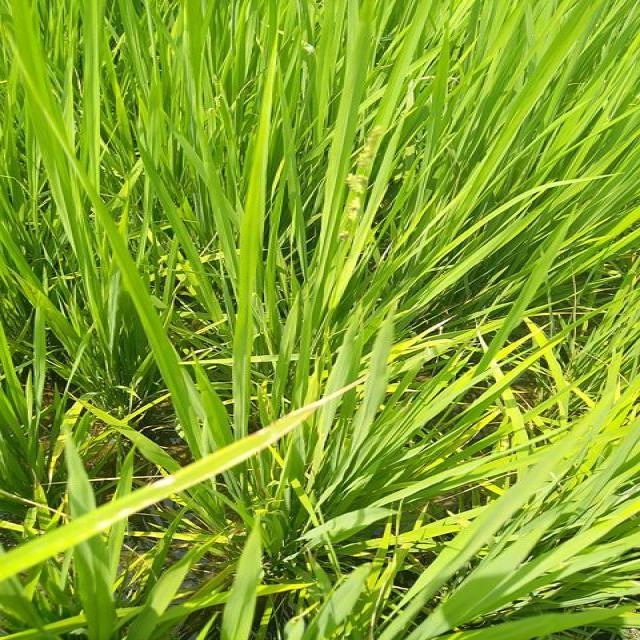Leaf Streak: (0, 380, 367, 575)
